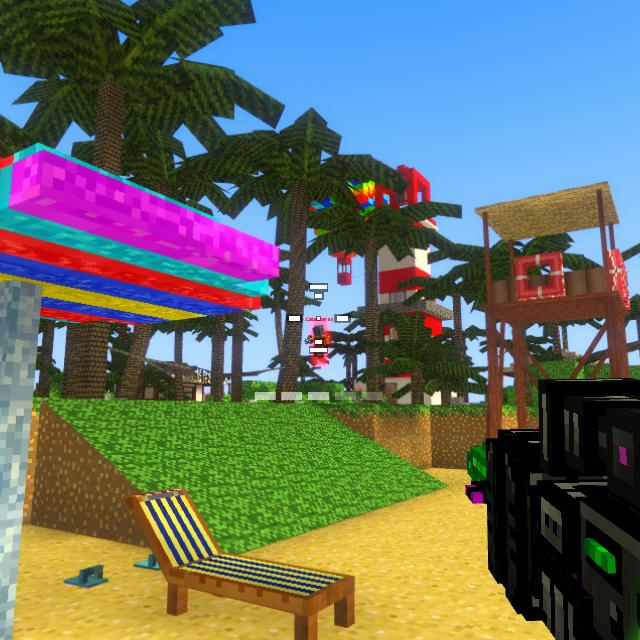Enemy: (312, 326, 329, 358)
